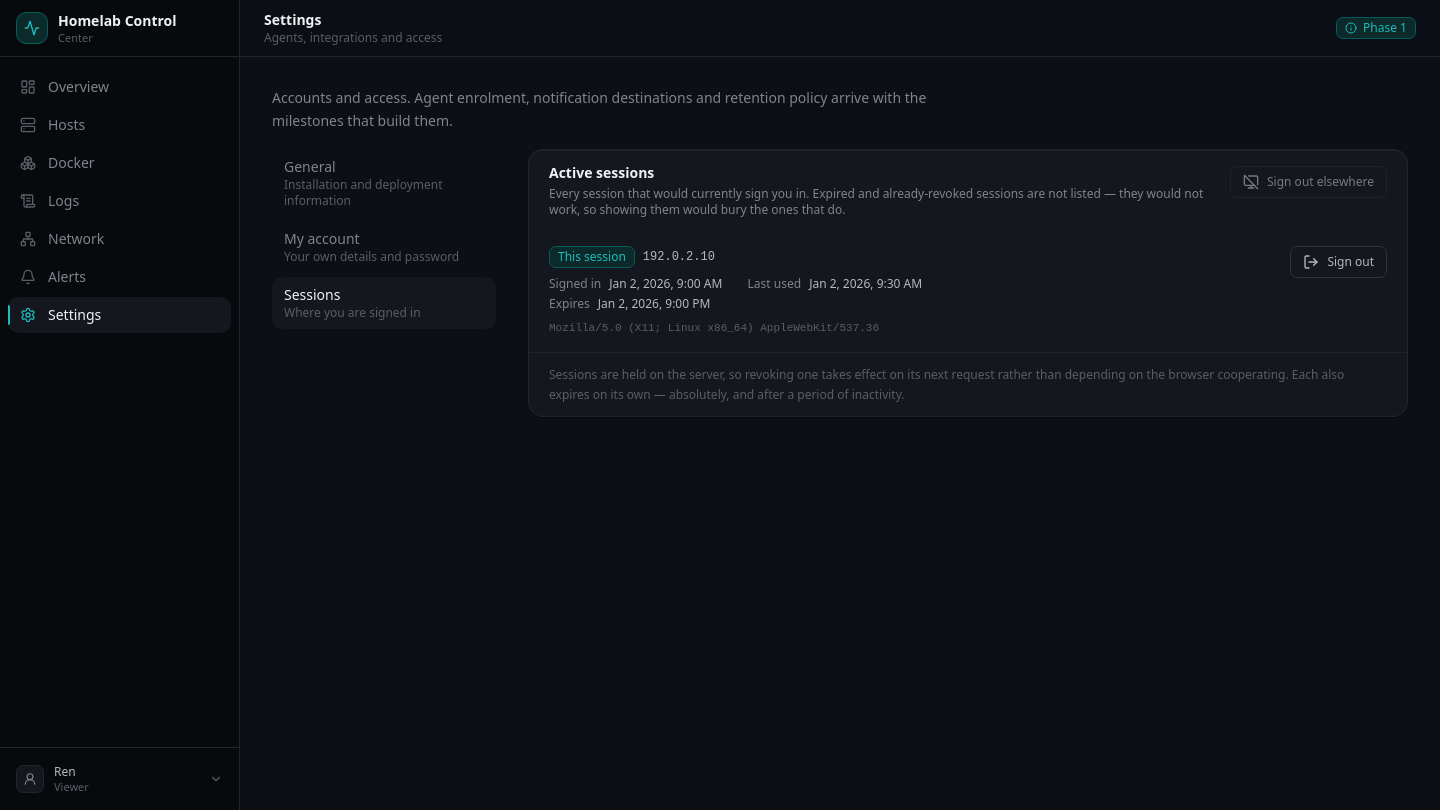
it: revoking the current session › warns that the user will be signed out
Expected: the heading "Active sessions" is shown, [549,162,654,182]
Step 1. Click the button with aria-label "Sign out of this session" → click(1339, 262), box [1290,246,1387,278]
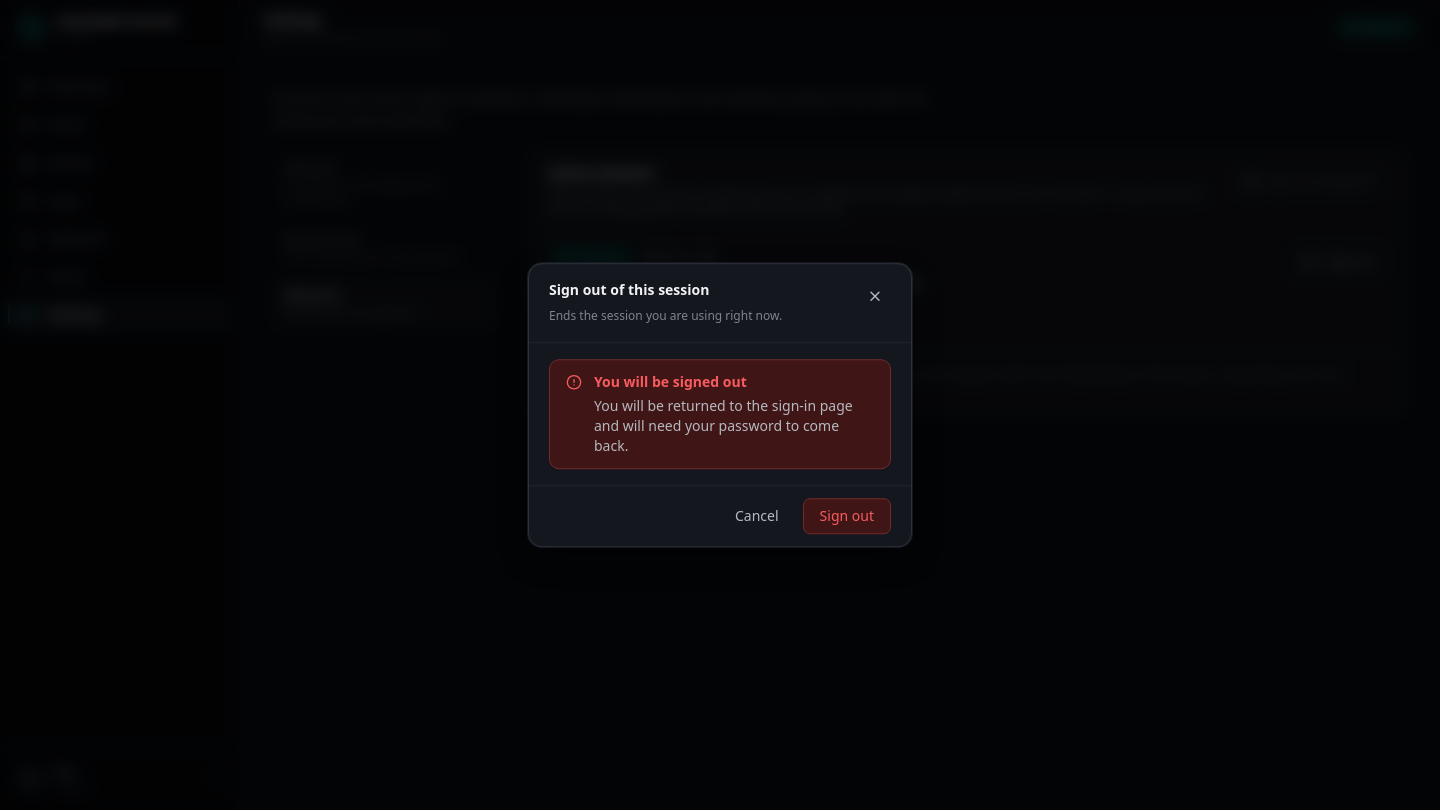
Expected: the text "You will be signed out" is shown, [594,372,747,391]
Expected: the text "need your password to come back" is shown, [594,396,853,455]
